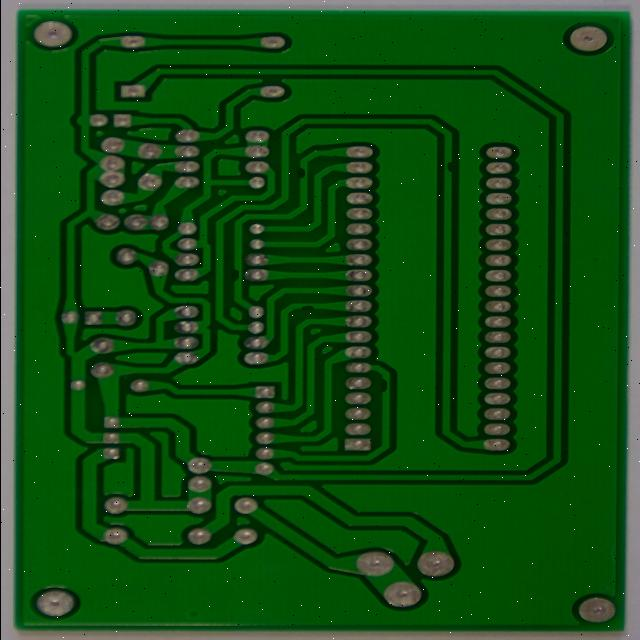mouse_bite: (474, 143, 494, 162), (403, 369, 421, 389), (244, 254, 262, 272), (315, 148, 332, 167), (320, 291, 342, 305)
